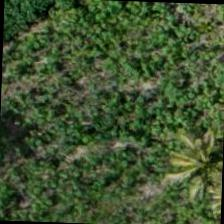Kelapa_Sawit: (156, 124, 222, 216)
